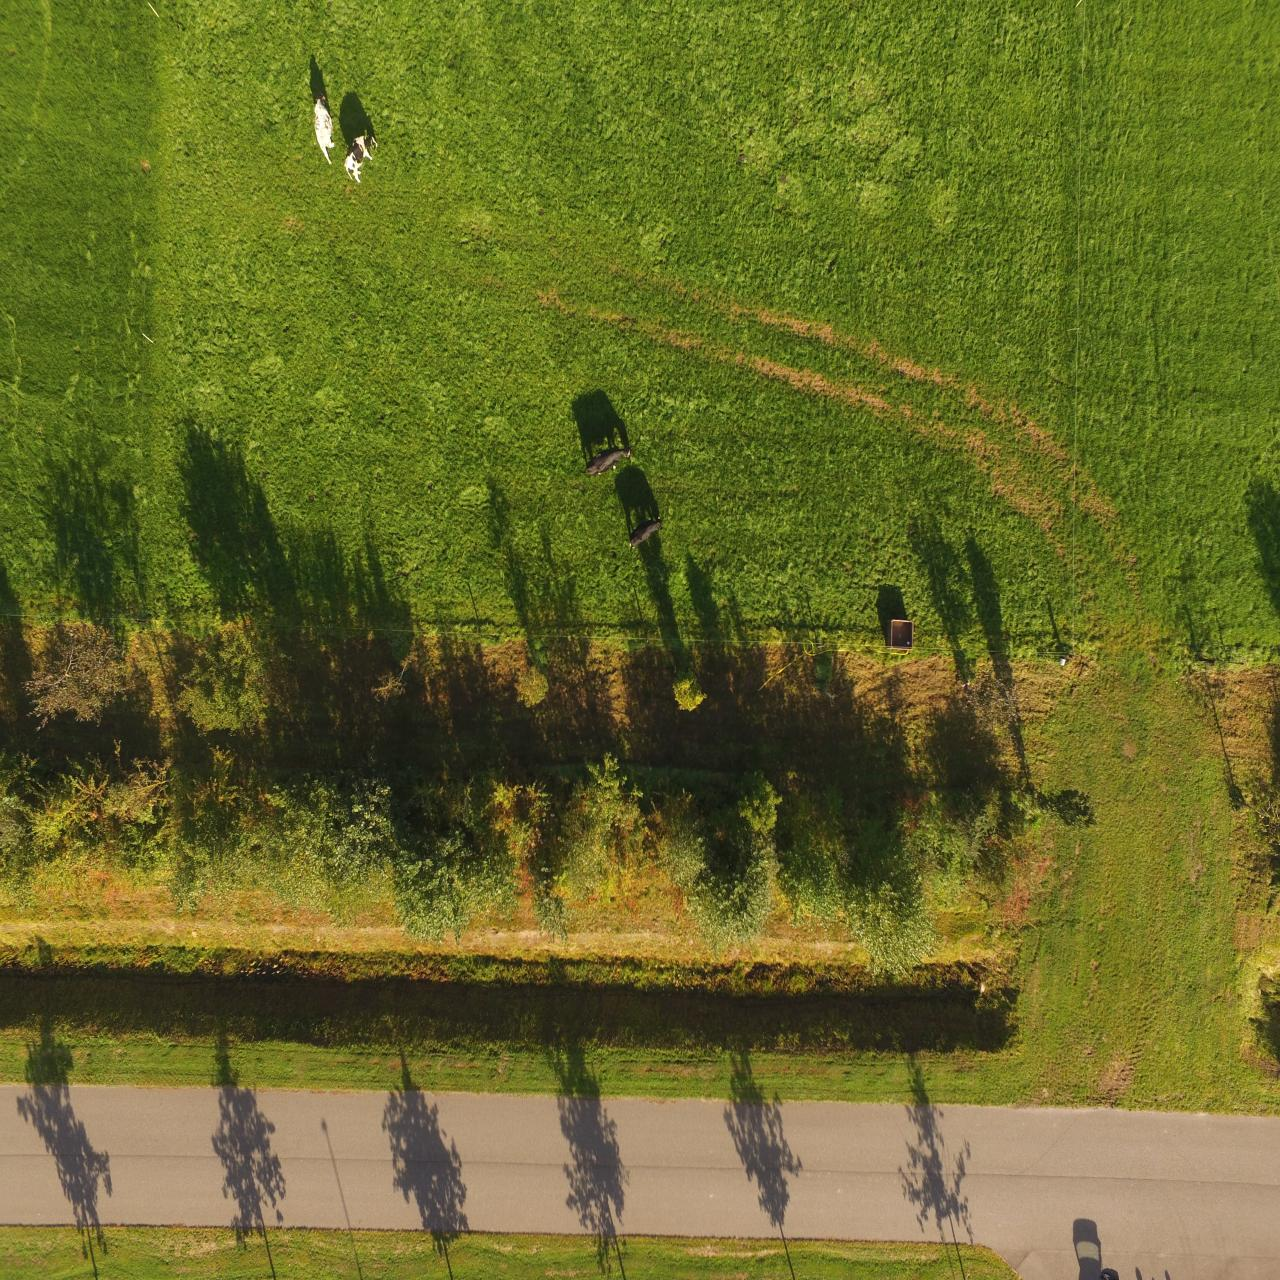cow: (344, 130, 378, 184), (581, 443, 635, 474), (315, 88, 334, 171), (625, 513, 663, 552)
